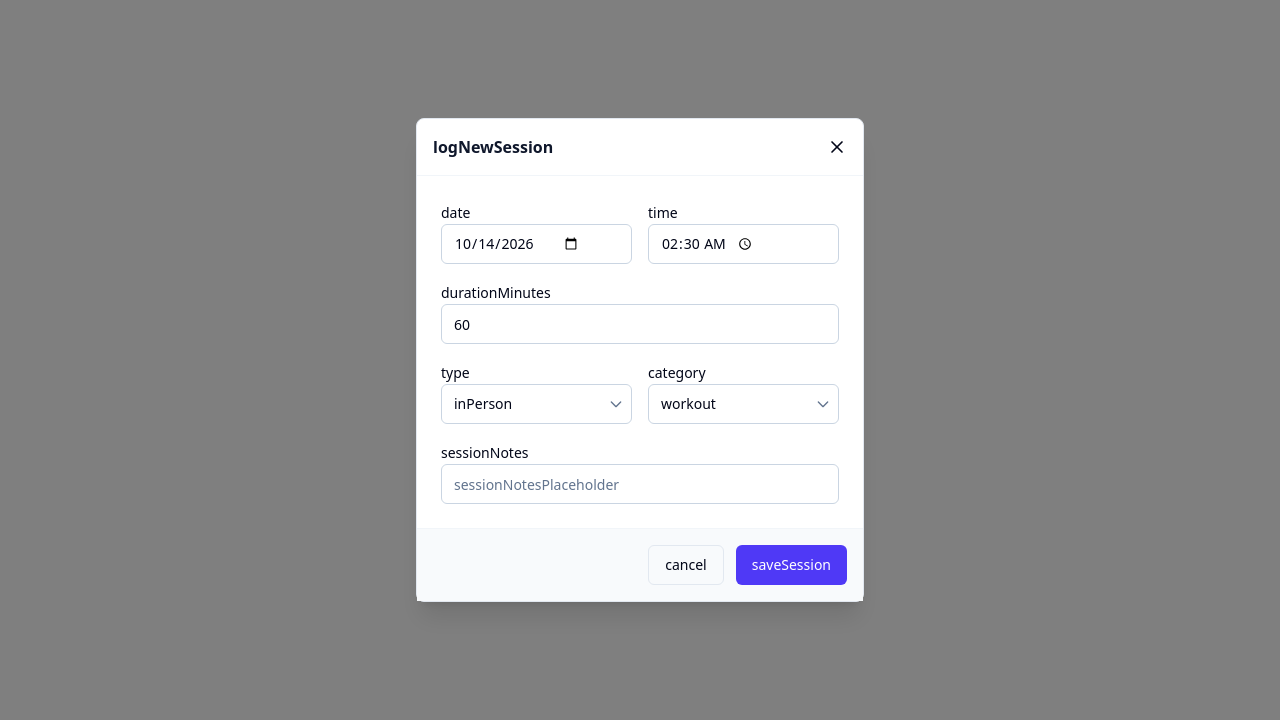
Test: SessionLogModal › loading state shows saving text
The width and height of the screenshot is (1280, 720).
Click the button "saveSession" at (791, 565), box [736, 545, 847, 585]
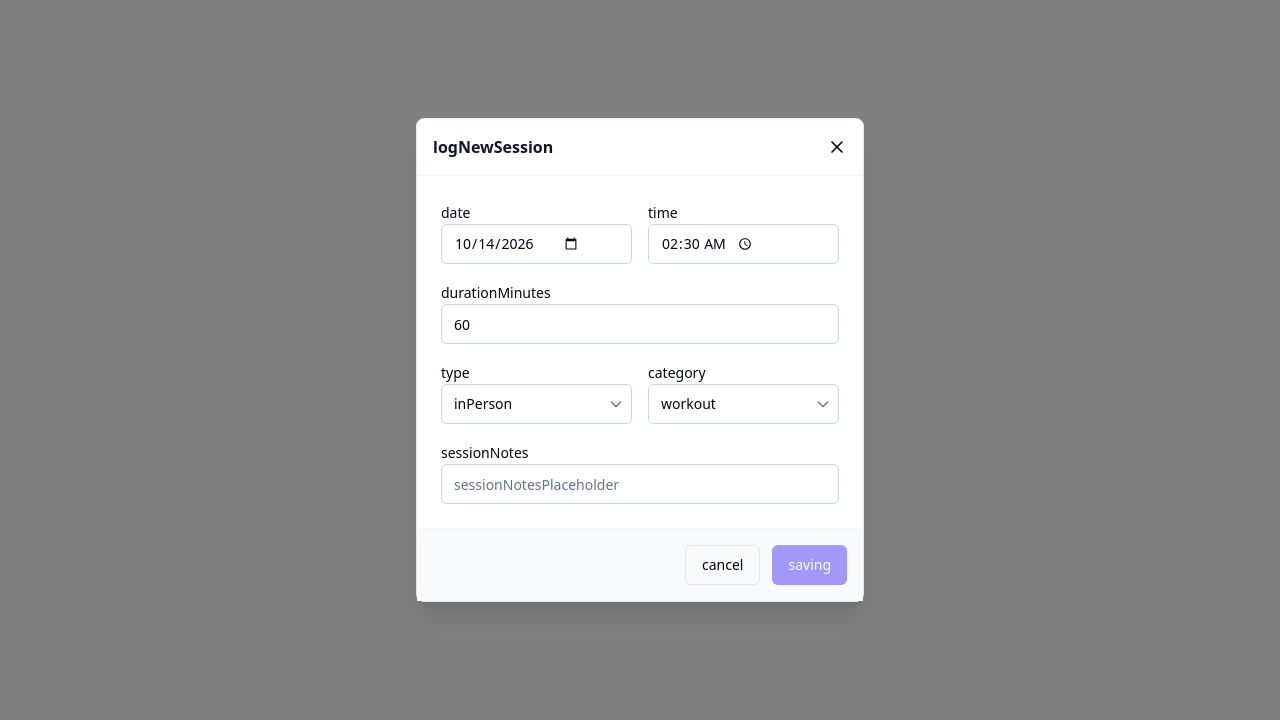
Now the button "saving" is shown, box [772, 545, 847, 585]
